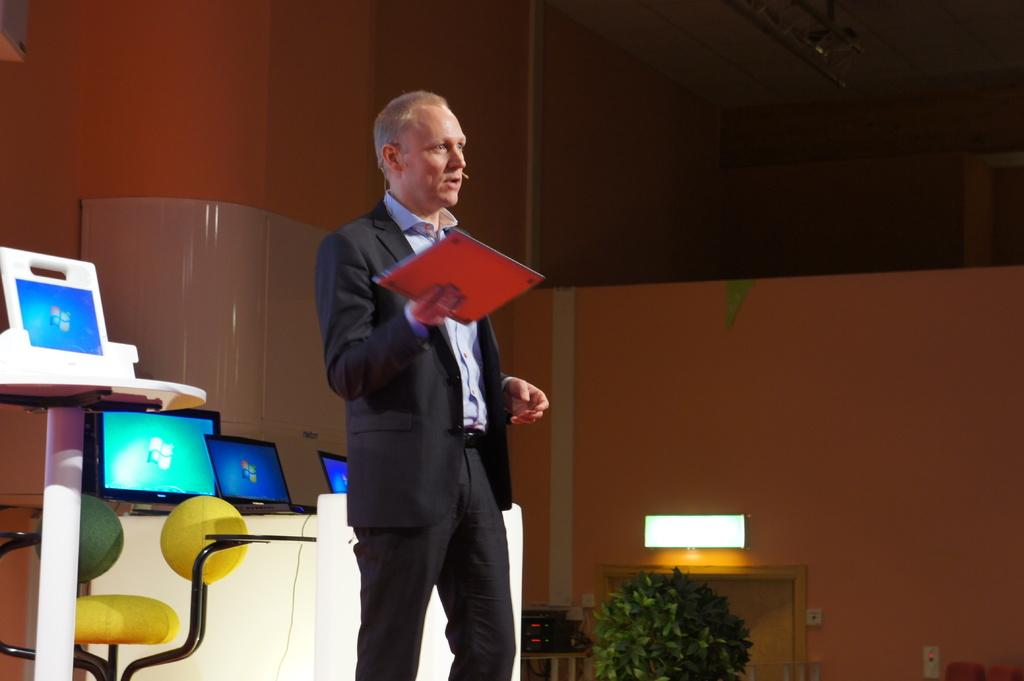Computer-monitor: (77, 412, 234, 524)
